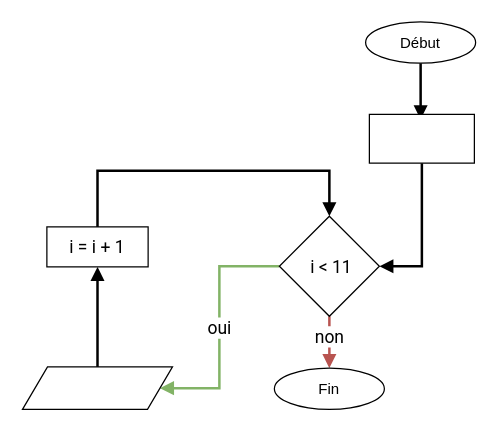
Image size: 498x431. Some labels were removed from this diagram. The shapes that lost their labels are listed below. From the top down, each one's centre as x and y in pixels, then its label:
At point (421, 138): "i = 1".
At point (96, 387): "Afficher i".
